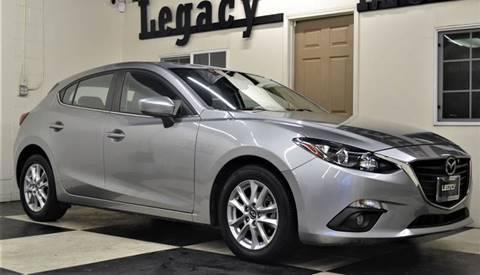Mazda3 Hatchback: (12, 56, 476, 265)
